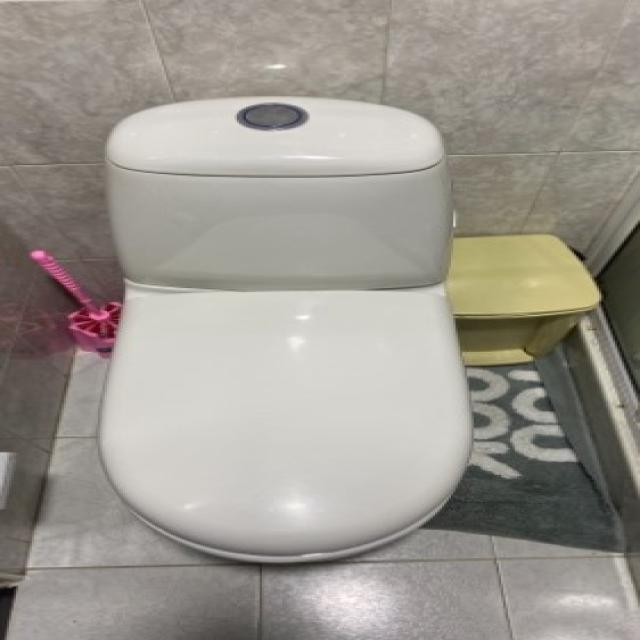toilet: (96, 93, 473, 564)
